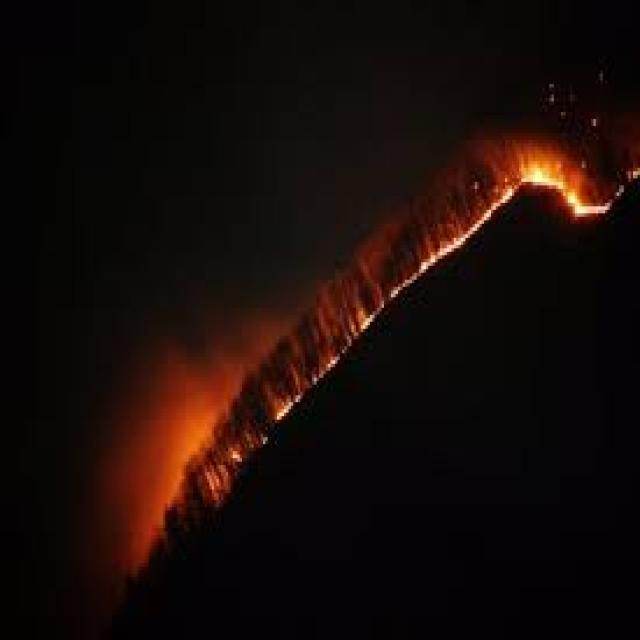Fire: (102, 126, 208, 600), (430, 125, 640, 267), (212, 266, 297, 509), (297, 195, 350, 406), (354, 195, 389, 350), (391, 195, 430, 308)
